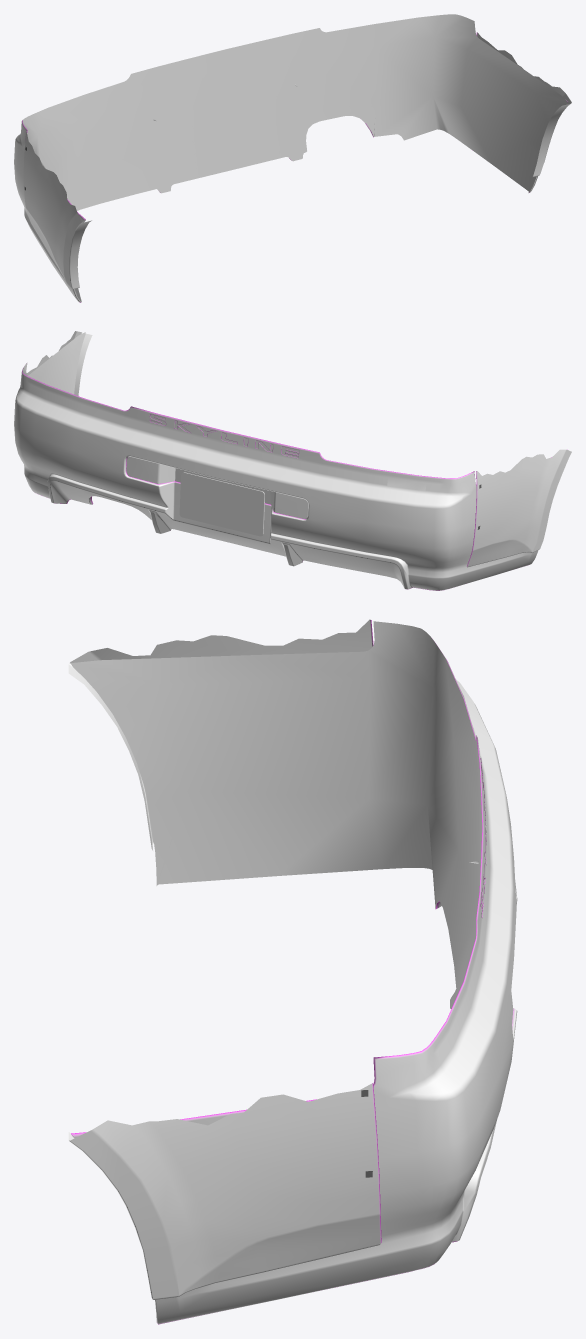
Rendered from Car_Nissan_SkylineGTRVspecR34_1999_BumperR_SetA_AltB.fbx.
3 renders of one model, top to bottom at view 1: azimuth 30°, elevation 25°; view 2: azimuth 150°, elevation 25°; view 3: azimuth 270°, elevation 25°, orthographic. The views are drawn at different scales.
Parts seen in each view (by area): view 1: BumperR 6; view 2: BumperR 6; view 3: BumperR 6.
Boxes of the visible parts, box(x1,y1,x2,y2) form: BumperR 6: box(14, 14, 571, 302); BumperR 6: box(14, 331, 571, 590); BumperR 6: box(68, 619, 517, 1324).
Size of the model in its own units: 1.8 by 0.4853 by 0.712.
